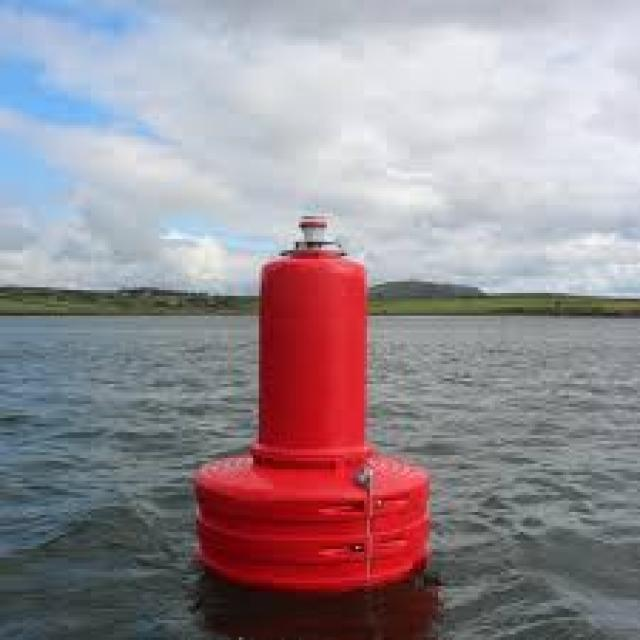2.1 lateral mark -P-: (182, 177, 453, 610)
